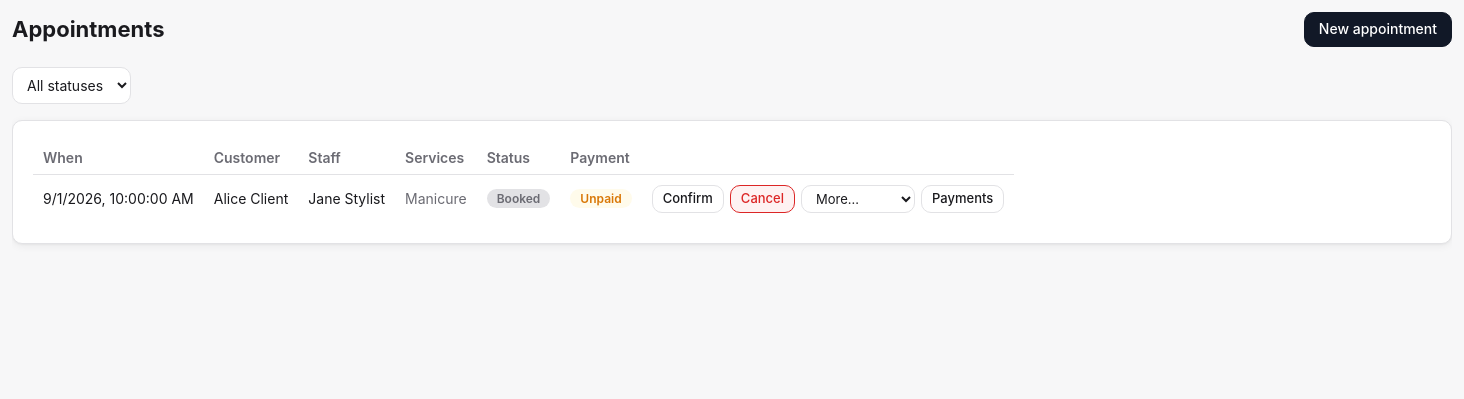
Test: AppointmentsPage - payments › shows an honest empty state when there are no payments yet
The width and height of the screenshot is (1464, 399).
Expected: the text "Alice Client" is shown, [204,174,298,223]
Click the button "Payments": (963, 199) [921,185,1004,213]
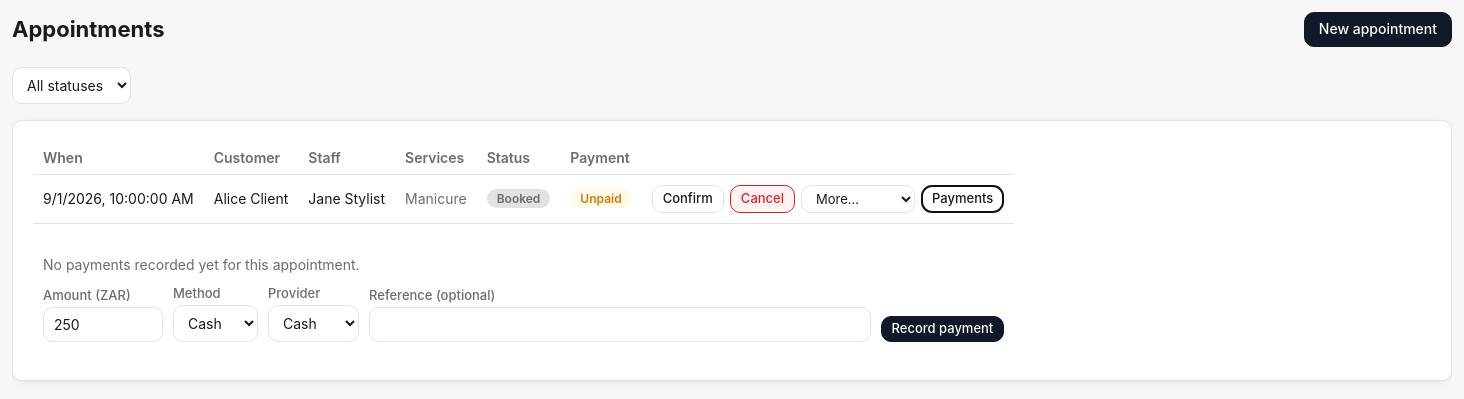
Result: the text "No payments recorded yet for this appointment." is shown at [43,256,360,273]
